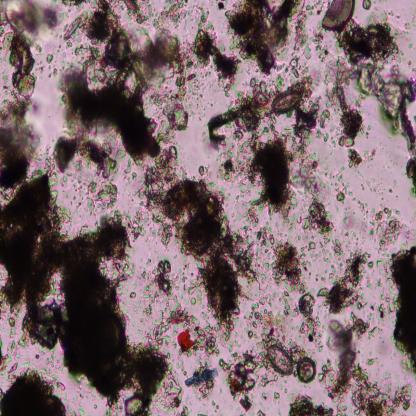Background material: (0, 174, 182, 415), (56, 1, 192, 159), (150, 155, 259, 336), (244, 127, 300, 225), (141, 30, 190, 138), (206, 76, 282, 144), (225, 0, 293, 73), (284, 94, 329, 200), (0, 0, 45, 104), (191, 6, 240, 95), (0, 352, 69, 414), (320, 316, 376, 392), (357, 60, 416, 132), (246, 296, 307, 357), (316, 248, 372, 314), (0, 97, 41, 187), (50, 128, 119, 181), (334, 19, 404, 70), (325, 57, 362, 149), (335, 372, 416, 414), (257, 227, 307, 294), (214, 354, 256, 413), (146, 306, 201, 346), (142, 255, 184, 306), (121, 1, 190, 32), (303, 200, 343, 252), (397, 94, 416, 194), (285, 56, 318, 110), (368, 268, 394, 336), (216, 144, 250, 195), (368, 204, 404, 251), (80, 175, 122, 215), (297, 292, 325, 350), (252, 342, 280, 400), (334, 170, 367, 218), (294, 1, 314, 61), (286, 392, 334, 415), (35, 0, 64, 36), (125, 204, 149, 241), (0, 339, 22, 372), (70, 388, 88, 416), (312, 28, 328, 59), (359, 144, 380, 162), (346, 146, 362, 169), (46, 52, 58, 79), (173, 354, 187, 374), (193, 387, 210, 402), (197, 164, 211, 178), (334, 188, 348, 202), (181, 401, 192, 416), (211, 399, 220, 415), (362, 0, 372, 12), (128, 289, 138, 300), (216, 0, 226, 10), (255, 410, 265, 416), (92, 401, 98, 409), (198, 412, 208, 416)
Cellulose filter fibre: (387, 246, 416, 374)
Cotton: (184, 370, 219, 387)
Diatom: (320, 1, 357, 32), (268, 347, 293, 376), (271, 90, 302, 112), (297, 357, 317, 384), (64, 16, 79, 40)
